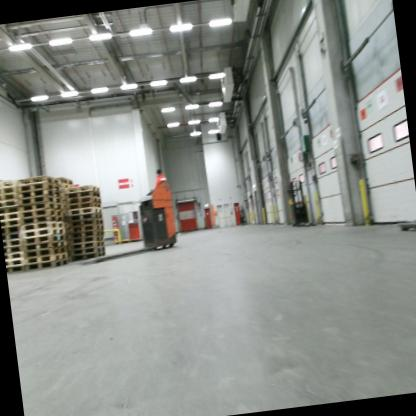pallet: (15, 184, 60, 206), (16, 173, 59, 194), (17, 199, 62, 219), (14, 192, 60, 209), (21, 224, 64, 241), (62, 181, 100, 200), (21, 211, 63, 228), (16, 181, 59, 197), (20, 219, 64, 234), (25, 257, 69, 272), (23, 238, 66, 253), (20, 207, 62, 222), (23, 245, 67, 259), (66, 191, 101, 208), (23, 232, 65, 246), (69, 226, 104, 240), (67, 204, 101, 218), (24, 251, 67, 262), (66, 189, 101, 202), (70, 232, 104, 245), (70, 244, 104, 257), (69, 216, 103, 228), (67, 200, 101, 211), (71, 239, 105, 250), (69, 211, 102, 222), (74, 250, 105, 261), (69, 224, 104, 233), (55, 173, 74, 187), (0, 212, 21, 223), (2, 231, 25, 241), (1, 225, 25, 234), (6, 264, 27, 274), (1, 219, 23, 228), (0, 204, 19, 214), (5, 258, 26, 267), (3, 238, 24, 247), (5, 251, 25, 260), (0, 192, 18, 202), (0, 176, 16, 187), (4, 245, 25, 253), (0, 185, 17, 194), (0, 200, 19, 206), (59, 182, 73, 189)
pallet_truck: (71, 176, 183, 268), (280, 173, 319, 234)
